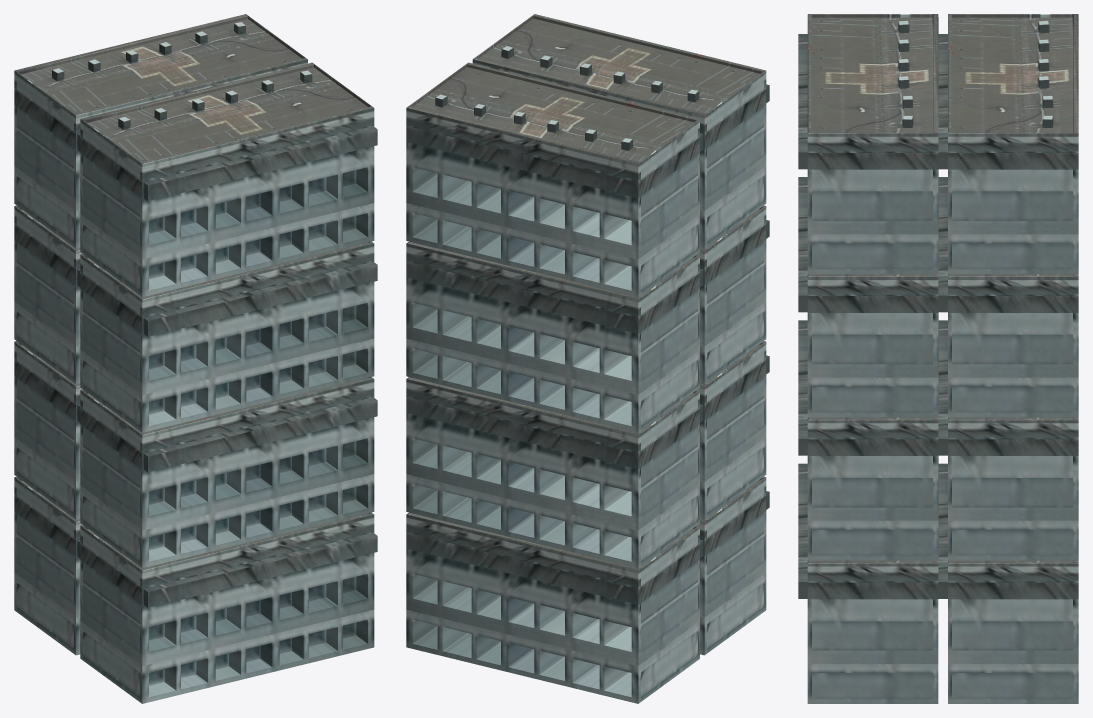
3 views of the same model, side by side, from view 1: azimuth 30°, elevation 25°; view 2: azimuth 150°, elevation 25°; view 3: azimuth 270°, elevation 25° (orthographic). The views are drawn at different scales.
Parts seen in each view (by area): view 1: hospitalcompleto.007; view 2: hospitalcompleto.007; view 3: hospitalcompleto.007.
Boxes of the visible parts, x1=… form: hospitalcompleto.007: x1=14, y1=14, x2=377, y2=703; hospitalcompleto.007: x1=406, y1=14, x2=769, y2=703; hospitalcompleto.007: x1=798, y1=14, x2=1078, y2=703.
Bounding box in the file's own units: 3.23 × 7.26 × 3.2.
3 materials, 3 textured.
